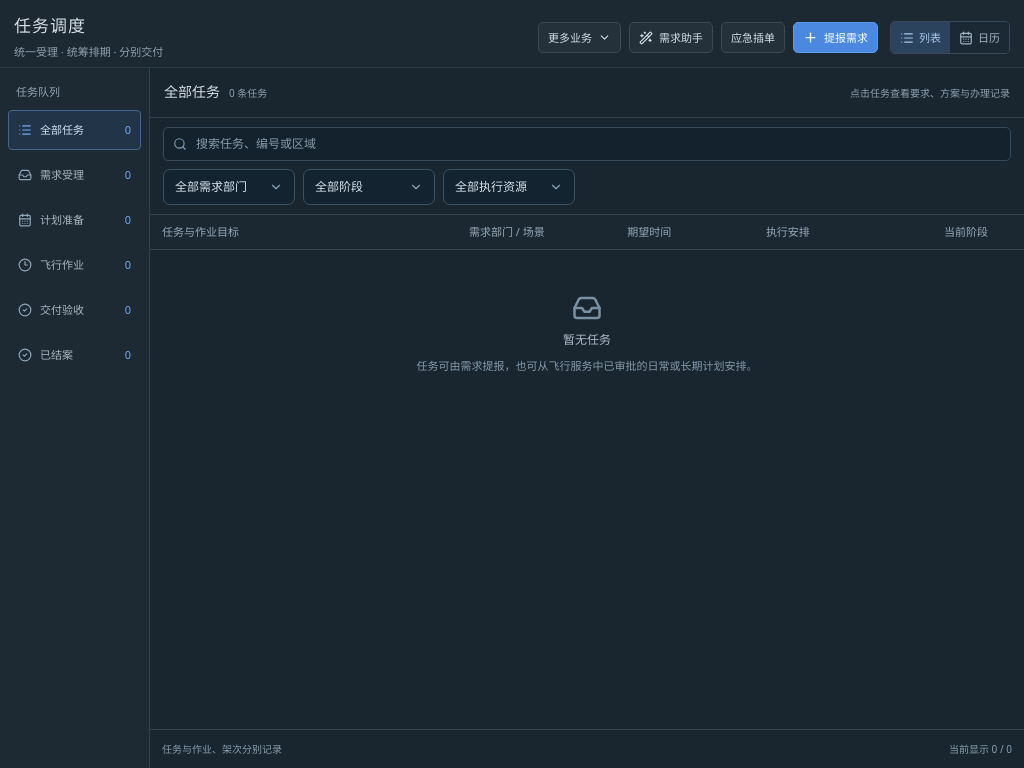
任务日历的上海日期与排期视图 › 空队列保留完整月历网格
This screenshot has width=1024, height=768.
Click the button "日历" at (980, 38), box top-left (950, 22), bottom-right (1009, 53)
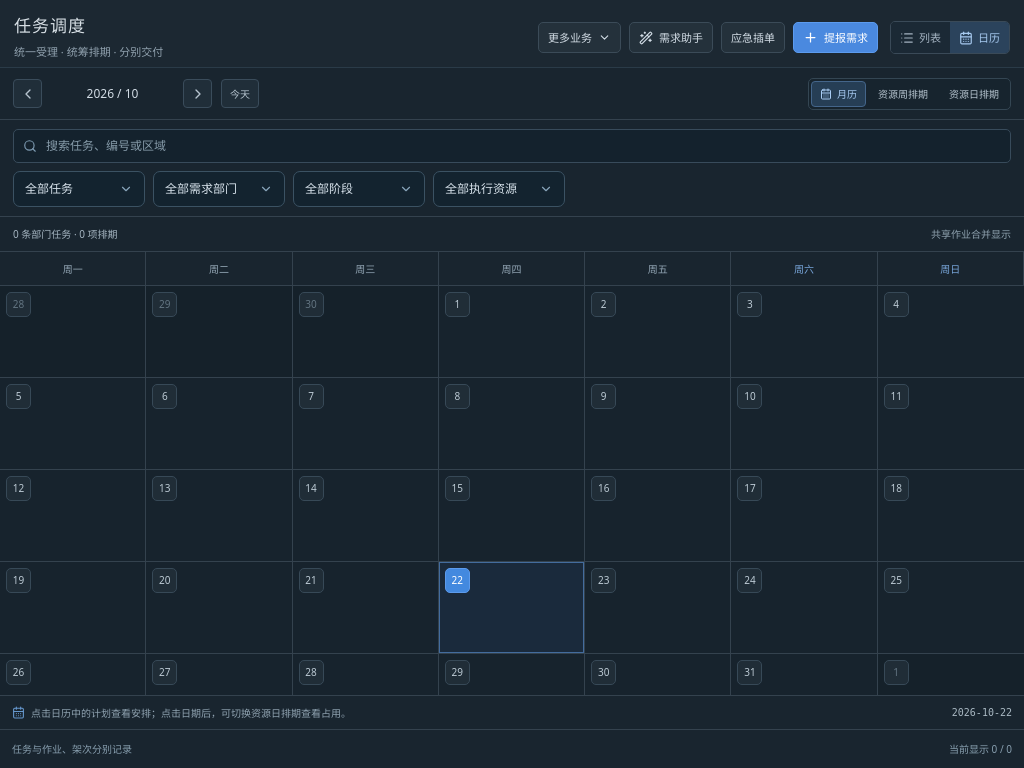
Expected: the number of cells with class "task-month-cell" is 35
